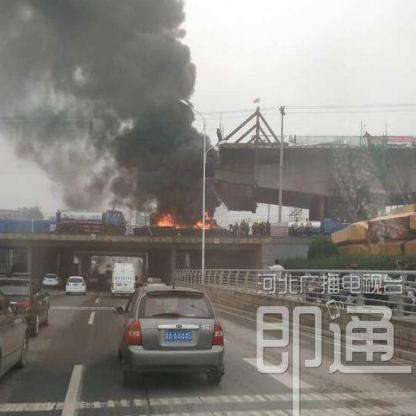fire: (146, 207, 224, 230)
smoke: (0, 4, 141, 232), (145, 4, 221, 204)
